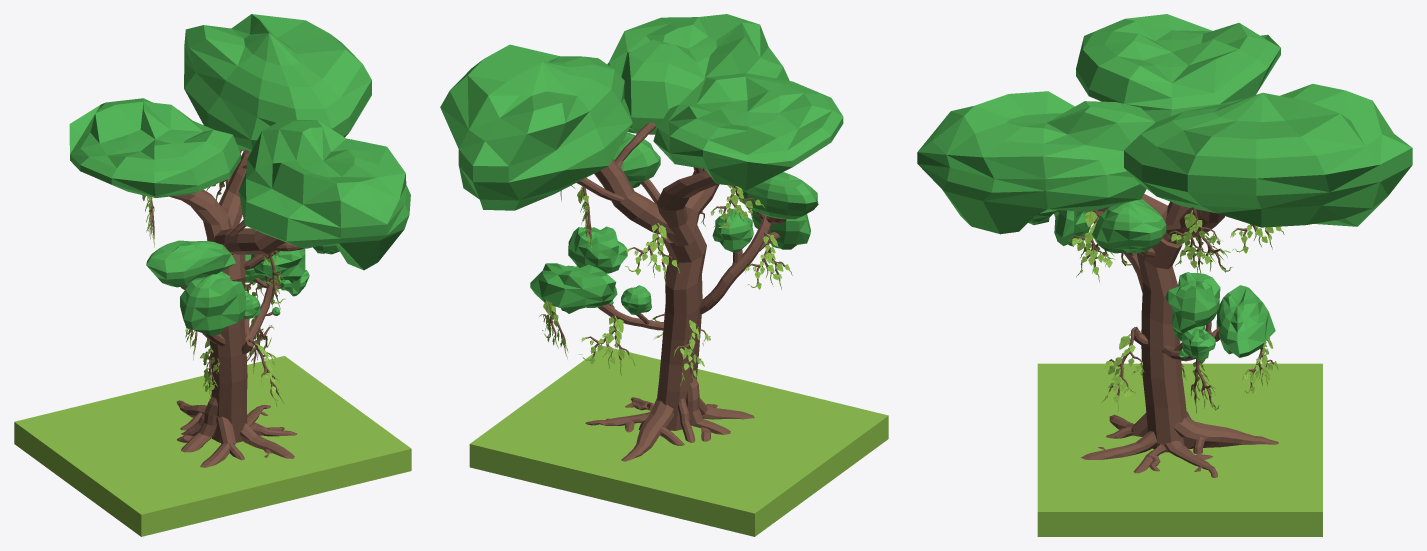
The model's file is Tree.glb.
3 views of the same model, side by side, from view 1: azimuth 30°, elevation 25°; view 2: azimuth 150°, elevation 25°; view 3: azimuth 270°, elevation 25° (orthographic). The views are drawn at different scales.
Parts seen in each view (by area): view 1: group1824895846, group1013485813, group470830306, group2102882934, group739545581, group2028584967, group1458414534, group1788544163, group1761565430, group1553637318, group1852867746, group1680604417 (+5 smaller); view 2: group1824895846, group470830306, group2102882934, group1013485813, group739545581, group1198685851, group1458414534, group1761565430, group1553637318, group1852867746, group1862560168, group1156426880 (+14 smaller); view 3: group1824895846, group470830306, group1013485813, group2102882934, group739545581, group1156426880, group1198685851, group1553637318, group967574188, group1642462034, group1209368409, group2028584967 (+7 smaller).
Part boxes in pixels (x1,y1,x2,y2): group1824895846: [14, 356, 411, 536]; group1013485813: [239, 120, 410, 270]; group470830306: [184, 14, 371, 152]; group2102882934: [69, 98, 240, 197]; group739545581: [210, 254, 247, 442]; group2028584967: [180, 274, 246, 335]; group1458414534: [146, 240, 235, 287]; group1788544163: [213, 228, 285, 254]; group1761565430: [170, 189, 231, 241]; group1553637318: [251, 248, 305, 280]; group1852867746: [219, 150, 250, 228]; group1680604417: [181, 397, 217, 452]; group1824895846: [469, 346, 888, 536]; group470830306: [440, 44, 632, 210]; group2102882934: [653, 73, 843, 190]; group1013485813: [607, 14, 789, 134]; group739545581: [657, 224, 706, 430]; group1198685851: [530, 263, 617, 313]; group1458414534: [735, 172, 818, 219]; group1761565430: [656, 170, 717, 246]; group1553637318: [568, 226, 627, 273]; group1852867746: [594, 159, 674, 237]; group1862560168: [700, 215, 771, 314]; group1156426880: [613, 133, 660, 188]; group1824895846: [1037, 363, 1322, 536]; group470830306: [1124, 84, 1412, 227]; group1013485813: [917, 91, 1155, 234]; group2102882934: [1076, 14, 1280, 122]; group739545581: [1136, 238, 1186, 452]; group1156426880: [1092, 199, 1166, 253]; group1198685851: [1216, 285, 1275, 357]; group1553637318: [1165, 272, 1220, 333]; group967574188: [1173, 416, 1278, 448]; group1642462034: [1168, 207, 1220, 273]; group1209368409: [1101, 327, 1145, 413]; group2028584967: [1054, 210, 1090, 246].
Size of the model in its own units: 1.16 by 1.35 by 1.44.
